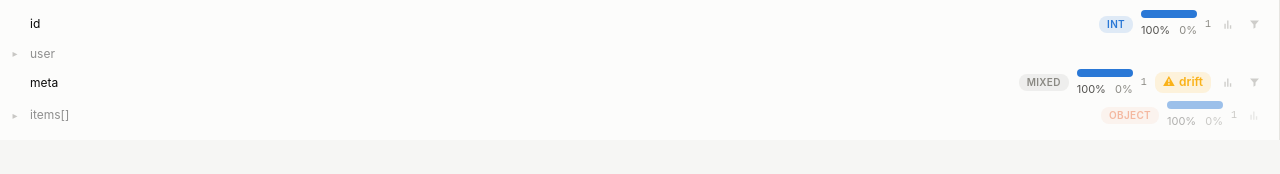
StructureMap + TreeNode › toggling a field's stats affordance mounts the inline stats panel and fetches that path (E8)
Click the 1st button with class "stats-toggle" at (1228, 24), box x1=1219 y1=15 x2=1237 y2=33
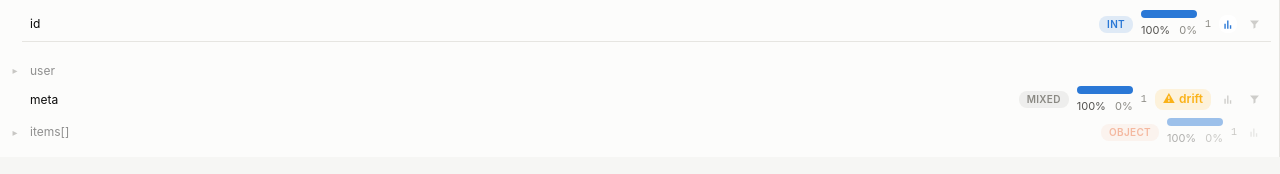
Check: the element with class "field-stats" is shown, box x1=22 y1=40 x2=1271 y2=58
